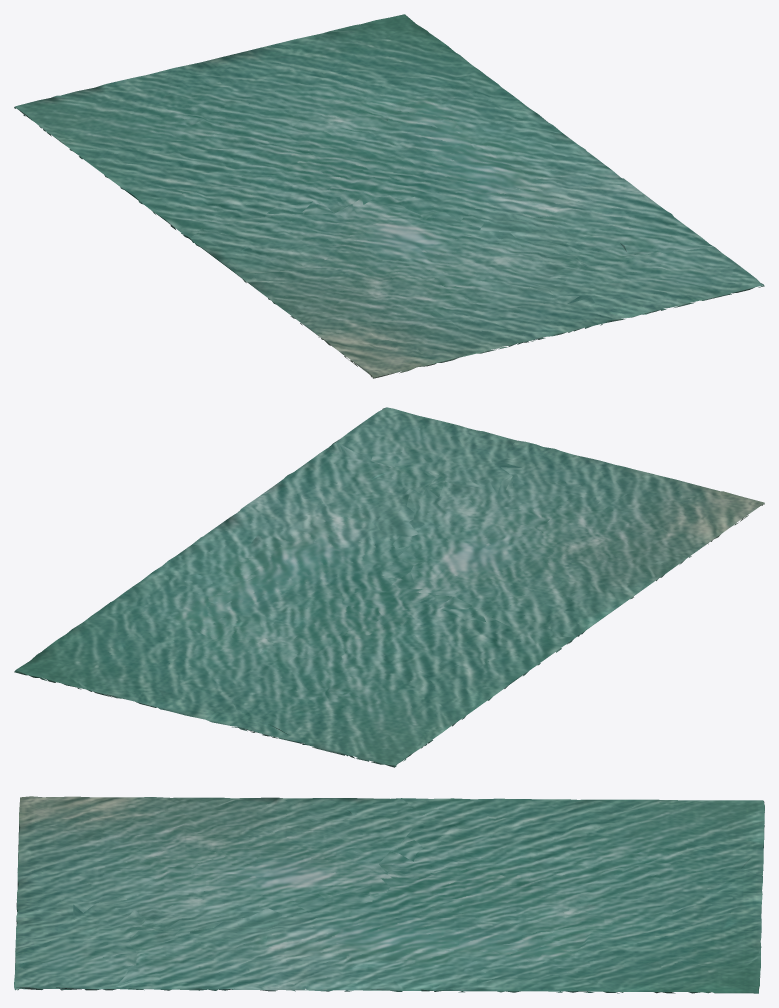
The picture shows the model from 3 angles, top to bottom: view 1: azimuth 30°, elevation 25°; view 2: azimuth 150°, elevation 25°; view 3: azimuth 270°, elevation 25°; orthographic projection. The views are drawn at different scales.
Visible parts, largest first — view 1: river-water.001; view 2: river-water.001; view 3: river-water.001.
Boxes of the visible parts, x1,y1,x2,y2 form: river-water.001: [14, 14, 764, 378]; river-water.001: [14, 407, 764, 767]; river-water.001: [14, 796, 764, 993].
Bounding box in the file's own units: 6.01 × 0.0657 × 9.74.
1 material, 1 textured.
